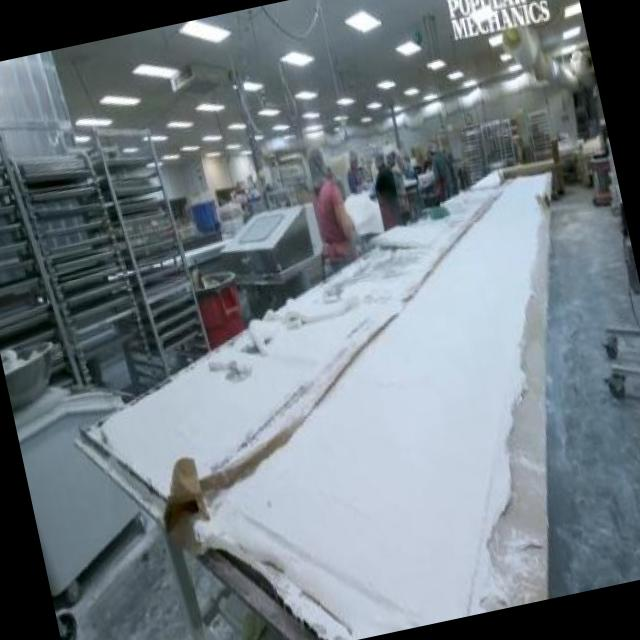hairnet: (305, 142, 328, 188)
